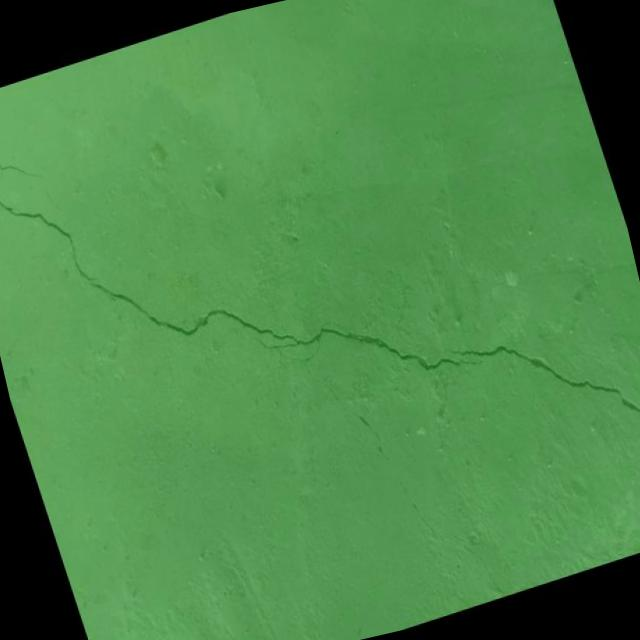crack: (0, 38, 556, 640), (437, 285, 640, 488), (0, 99, 61, 238)
